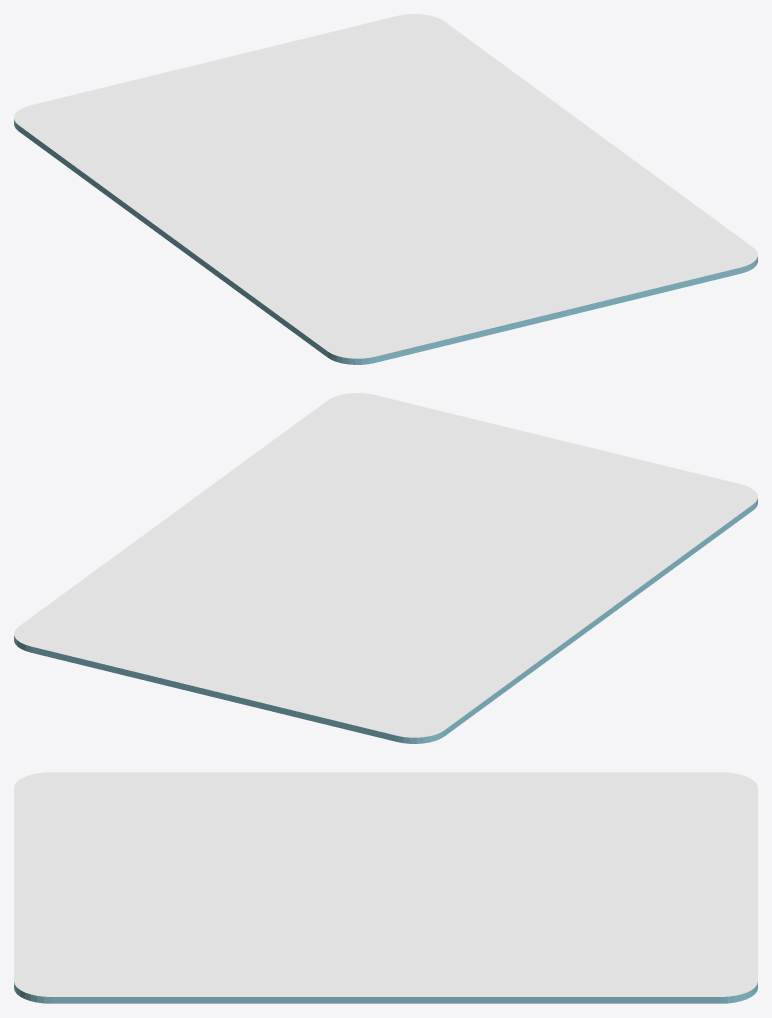
The model's file is card_shatter_03.glb.
3 renders of one model, top to bottom at view 1: azimuth 30°, elevation 25°; view 2: azimuth 150°, elevation 25°; view 3: azimuth 270°, elevation 25°, orthographic. The views are drawn at different scales.
Visible parts, largest first — view 1: V03_CardPiece_02, V03_CardPiece_07, V03_CardPiece_05, V03_CardPiece_06, V03_CardPiece_10, V03_CardPiece_03, V03_CardPiece_09, V03_CardPiece_01, V03_CardPiece_04, V03_CardPiece_08; view 2: V03_CardPiece_07, V03_CardPiece_02, V03_CardPiece_05, V03_CardPiece_10, V03_CardPiece_06, V03_CardPiece_09, V03_CardPiece_01, V03_CardPiece_03, V03_CardPiece_04, V03_CardPiece_08; view 3: V03_CardPiece_05, V03_CardPiece_07, V03_CardPiece_10, V03_CardPiece_02, V03_CardPiece_09, V03_CardPiece_06, V03_CardPiece_03, V03_CardPiece_01, V03_CardPiece_04, V03_CardPiece_08.
Part boxes in pixels (x1,y1,x2,y2): V03_CardPiece_02: [320, 210, 540, 364]; V03_CardPiece_07: [24, 57, 287, 191]; V03_CardPiece_05: [504, 128, 757, 286]; V03_CardPiece_06: [14, 107, 308, 241]; V03_CardPiece_10: [306, 14, 590, 144]; V03_CardPiece_03: [357, 206, 688, 322]; V03_CardPiece_09: [230, 38, 523, 165]; V03_CardPiece_01: [170, 207, 355, 351]; V03_CardPiece_04: [373, 155, 650, 264]; V03_CardPiece_08: [278, 98, 458, 210]; V03_CardPiece_07: [198, 599, 445, 743]; V03_CardPiece_02: [450, 444, 757, 563]; V03_CardPiece_05: [165, 393, 426, 537]; V03_CardPiece_10: [14, 519, 230, 674]; V03_CardPiece_06: [405, 583, 595, 743]; V03_CardPiece_09: [122, 535, 306, 693]; V03_CardPiece_01: [451, 509, 746, 625]; V03_CardPiece_03: [414, 408, 574, 563]; V03_CardPiece_04: [262, 429, 433, 559]; V03_CardPiece_08: [260, 549, 466, 648]; V03_CardPiece_05: [14, 947, 403, 1003]; V03_CardPiece_07: [429, 784, 757, 892]; V03_CardPiece_10: [403, 933, 757, 1003]; V03_CardPiece_02: [14, 772, 347, 875]; V03_CardPiece_09: [392, 889, 757, 961]; V03_CardPiece_06: [382, 772, 756, 842]; V03_CardPiece_03: [14, 860, 348, 953]; V03_CardPiece_01: [68, 772, 391, 859]; V03_CardPiece_04: [69, 868, 393, 948]; V03_CardPiece_08: [347, 843, 638, 924].
Bounding box in the file's own units: 0.429 × 0.006 × 0.6.
